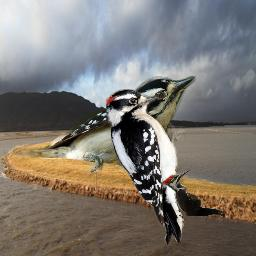Woodpecker: (13, 72, 196, 176), (106, 89, 185, 245), (159, 170, 227, 216)
